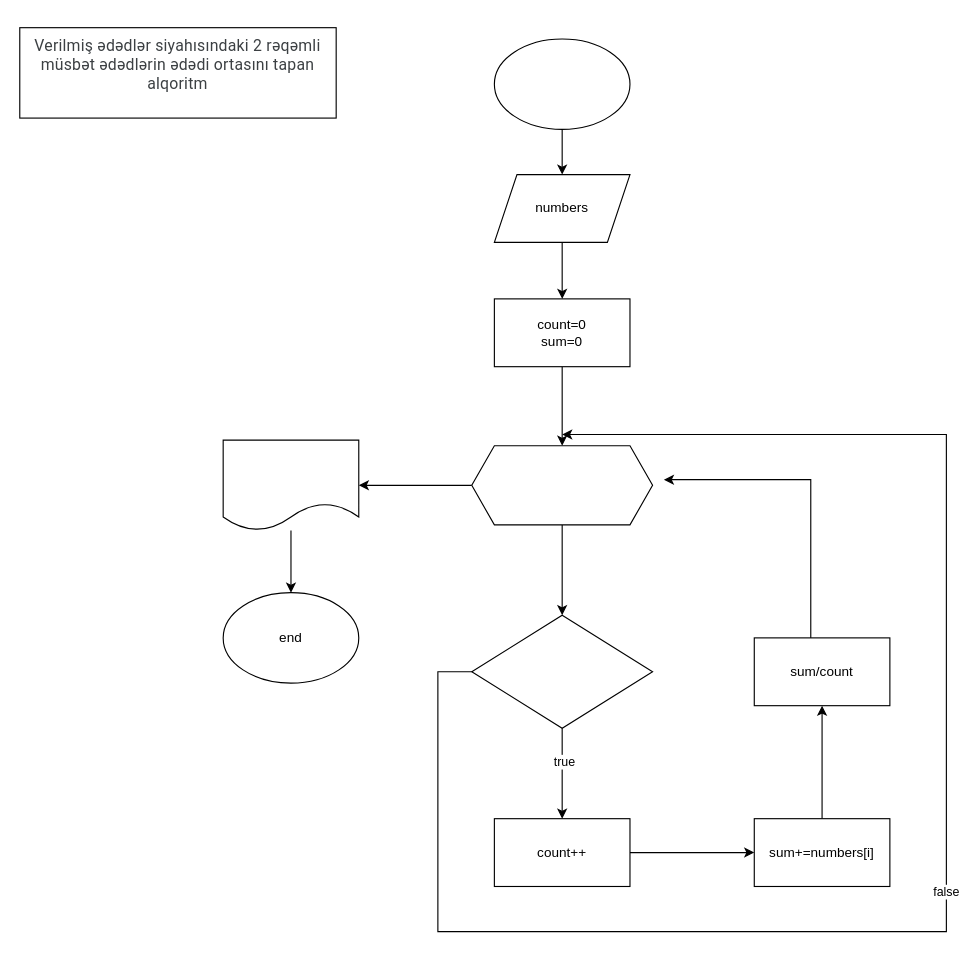
This 979x961 diagram has some shape labels left out. Here are the shapes that lost their labels. From the top down, the centre of each, then its label:
At point 561,83: "START".
At point 290,485: "result".
At point 562,485: "i=0, i<length, i++".
At point 562,671: "numbers[i]<100 numbers[i]>9".
